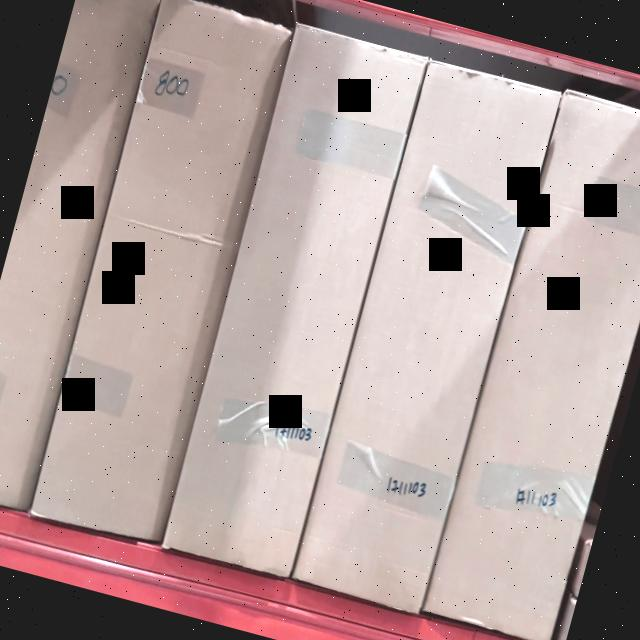box: (292, 59, 558, 612), (162, 26, 426, 578), (30, 0, 294, 542), (425, 92, 640, 640)
